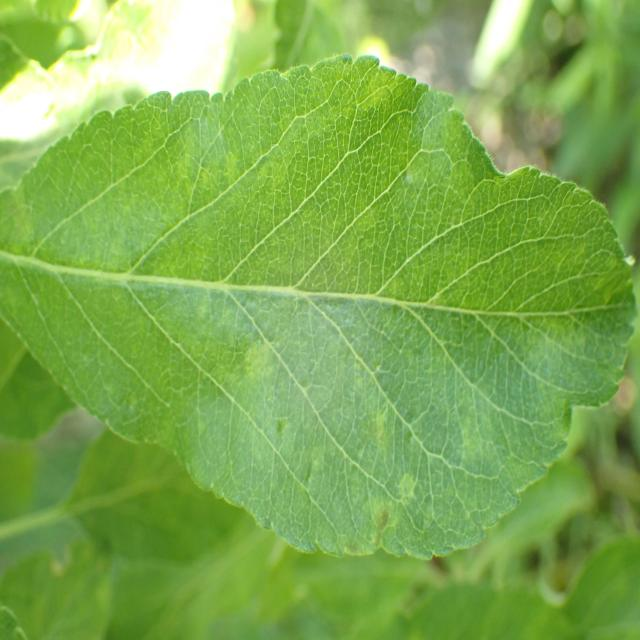scab: (85, 84, 559, 559)
